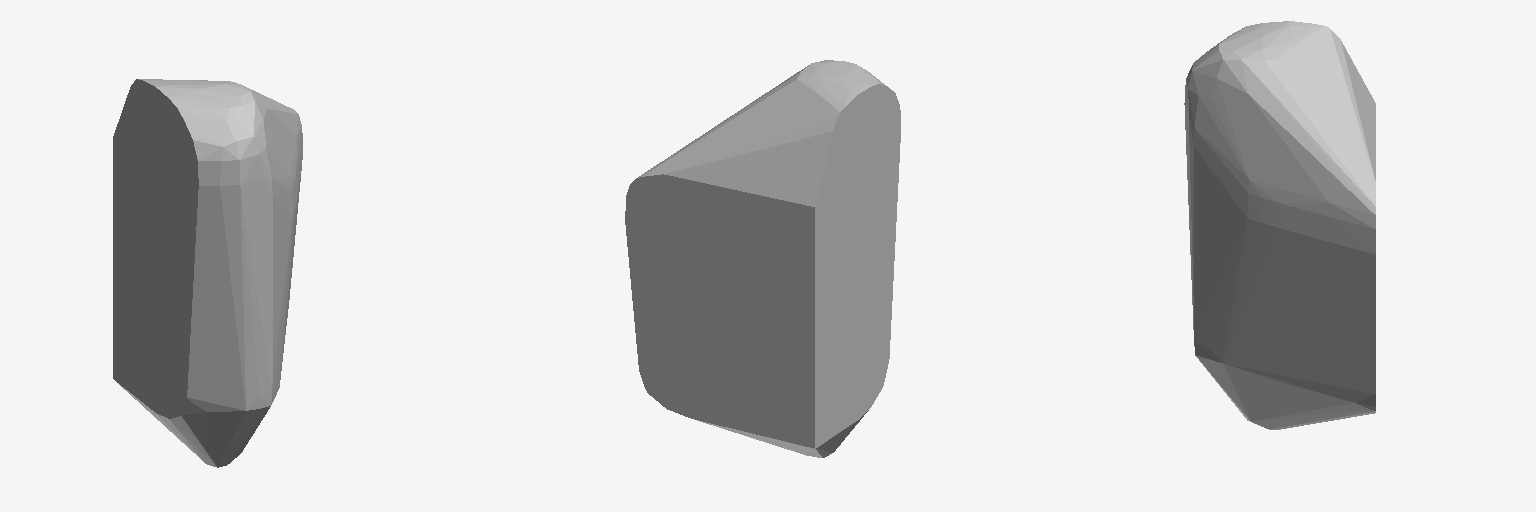
File: sofa_collision_7.obj
3 views of the same model, side by side, from view 1: azimuth 30°, elevation 25°; view 2: azimuth 150°, elevation 25°; view 3: azimuth 270°, elevation 25° (orthographic).
Bounding box in the file's own units: 76.16 × 144 × 66.19.